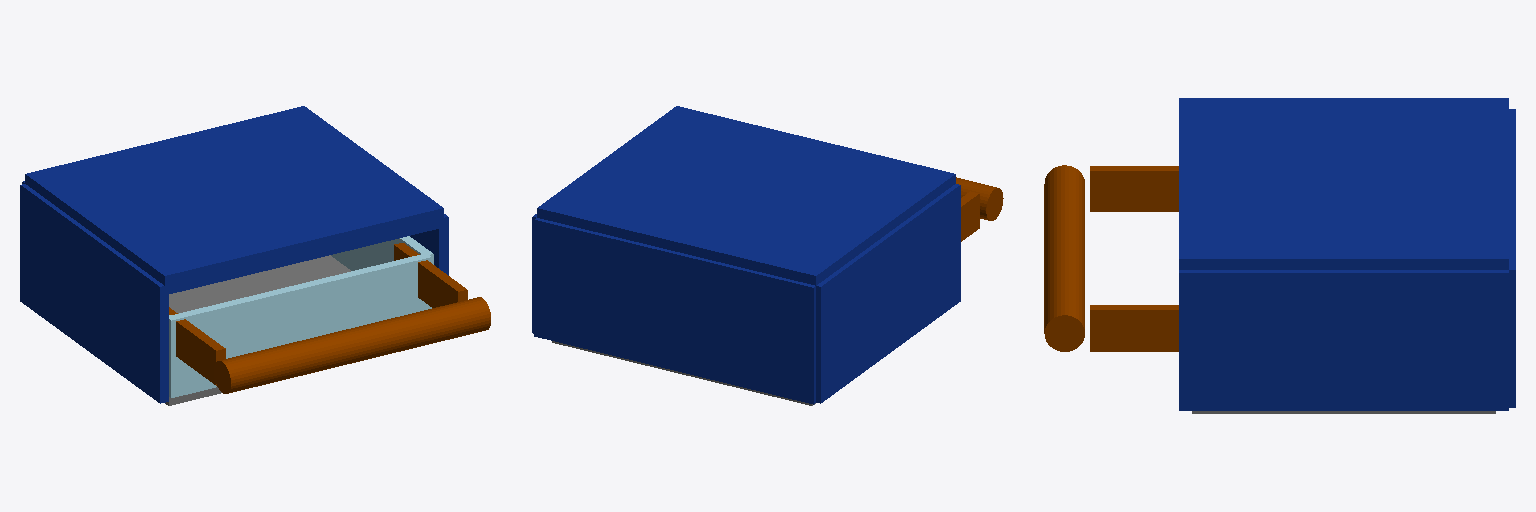
robot.urdf — bowl.urdf:
<?xml version="0.0" ?>
<robot name="bowl.urdf">
  <material name="mainColor">
    <color rgba=".1 .25 .6 1."/>
  </material>
  <material name="baseColor">
    <color rgba=".68 .85 .90 1."/>
  </material>
<!--   <material name="mainColor">
    <color rgba=".55 .27 .1 1."/>
  </material> -->
<!--   <material name="mainColor">
    <color rgba="1. 1. 1. 1."/>
  </material> -->
  <material name="orange">
    <color rgba=".93 .6 .23 1"/>
  </material>
  <material name="grey">
    <color rgba=".5 .5 .5 1."/>
  </material>
  <material name="brown">
    <color rgba=".59 .29 0.0 1."/>
  </material>

  <link name="base_link">
    <inertial>
      <origin rpy="0 0 0" xyz="0.0 0.0 0.0"/>
        <mass value="1"/>
        <inertia ixx="1" ixy="0" ixz="0" iyy="1" iyz="0" izz="1"/>
    </inertial>
  </link>

  <link name="base">
    <contact>
      <rolling_friction value="0.0"/>
      <lateral_friction value="0.0"/>
      <spinning_friction value="0.0"/>
    </contact>
    <inertial>
      <origin rpy="0 0 0" xyz="0.0 0.0 0.0"/>
       <mass value="0.1"/>
       <inertia ixx="1" ixy="0" ixz="0" iyy="1" iyz="0" izz="1"/>
    </inertial>
    <!-- bottom -->
    <visual>
      <origin rpy="0 0 0" xyz="0 0 -0.2"/>
      <geometry>
        <box size="1.4 1.2 .1"/>
      </geometry>
      <material name="grey"/>
    </visual>
    <visual>
      <!-- right -->
      <origin rpy="0 0 0" xyz="0 -.6 0"/>
      <geometry>
        <box size="1.4 .05 0.4"/>
      </geometry>
      <material name="baseColor"/>
    </visual>
    <visual>
      <!-- left -->
      <origin rpy="0 0 0" xyz="0 .6 0"/>
      <geometry>
        <box size="1.4 .05 0.4"/>
      </geometry>
      <material name="baseColor"/>
    </visual>
    <visual>
      <!-- front -->
      <origin rpy="0 0 0" xyz=".7 0 0"/>
      <geometry>
        <box size=".05 1.2 0.4"/>
      </geometry>
      <material name="baseColor"/>
    </visual>
    <visual>
      <!-- back -->
      <origin rpy="0 0 0" xyz="-.7 0 0"/>
      <geometry>
        <box size=".05 1.2 0.4"/>
      </geometry>
      <material name="baseColor"/>
    </visual>

    <collision>
      <!--Bottom --> 
      <origin rpy="0 0 0" xyz="0 0 -2"/>
      <geometry>
        <box size="1.4 1.2 .1"/>
      </geometry>
    </collision>
    <collision>
      <!-- right -->
      <origin rpy="0 0 0" xyz="0 -.6 0"/>
      <geometry>
        <box size="1.4 .05 0.4"/>
      </geometry>
    </collision>
    <collision>
      <!-- left -->
      <origin rpy="0 0 0" xyz="0 .6 0"/>
      <geometry>
        <box size="1.4 .05 0.4"/>
      </geometry>
    </collision>
    <collision>
      <!-- front -->
      <origin rpy="0 0 0" xyz=".7 0 0"/>
      <geometry>
        <box size=".05 1.2 0.4"/>
      </geometry>
    </collision>
    <collision>
      <!-- back -->
      <origin rpy="0 0 0" xyz="-.7 0 0"/>
      <geometry>
        <box size=".05 1.2 0.4"/>
      </geometry>
    </collision>
  </link>

  <link name="handle_r">
    <contact>
      <rolling_friction value="1000.0"/>
      <lateral_friction value="1000.0"/>
      <!-- lateral_friction was key to not making the gripper slide on the handle--> 
      <spinning_friction value="1000.0"/>
      <contact_cfm value="0.0"/>
      <contact_erp value="1.0"/>
    </contact>
    <inertial>
      <origin rpy="0 1.57 0" xyz="0 0 0"/>
      <mass value=".1"/>
      <inertia ixx="1" ixy="0" ixz="0" iyy="1" iyz="0" izz="1"/>
    </inertial>
    <visual>
      <origin rpy="0 1.57 0" xyz="0 0 0"/>
      <geometry>
        <cylinder radius="0.08" length="1.4"/>
      </geometry>
      <material name="brown"/>
    </visual>
    <collision>
      <origin rpy="0 1.57 0" xyz="0 0 0"/>
      <geometry>
        <cylinder radius="0.08" length="1.4"/>
      </geometry>
    </collision>
  </link>

  <link name="handle_plate_far">
    <contact>
      <rolling_friction value="1000.0"/>
      <lateral_friction value="1000.0"/>
      <spinning_friction value="1000.0"/>
      <contact_cfm value="0.0"/>
      <contact_erp value="1.0"/>
    </contact>
    <inertial>
      <origin rpy="0 1.57 0" xyz="0 0 0"/>
      <mass value=".1"/>
      <inertia ixx="1" ixy="0" ixz="0" iyy="1" iyz="0" izz="1"/>
    </inertial>
    <visual>
      <origin rpy="0 0 0" xyz="0 0 0"/>
      <geometry>
        <box size=".05 .6 .18"/>
      </geometry>
      <material name="brown"/>
    </visual>
    <collision>
      <origin rpy="0 0 0" xyz="0 0 0"/>
      <geometry>
        <box size=".05 .6 .18"/>
      </geometry>
    </collision>
  </link>

  <link name="handle_plate_near">
    <contact>
      <rolling_friction value="1000.0"/>
      <lateral_friction value="1000.0"/>
      <spinning_friction value="1000.0"/>
      <contact_cfm value="0.0"/>
      <contact_erp value="1.0"/>
    </contact>
    <inertial>
      <origin rpy="0 1.57 0" xyz="0 0 0"/>
      <mass value=".1"/>
      <inertia ixx="1" ixy="0" ixz="0" iyy="1" iyz="0" izz="1"/>
    </inertial>
    <visual>
      <origin rpy="0 0 0" xyz="0 0 0"/>
      <geometry>
        <box size=".05 .6 .18"/>
      </geometry>
      <material name="brown"/>
    </visual>
    <collision>
      <origin rpy="0 0 0" xyz="0 0 0"/>
      <geometry>
        <box size=".05 .6 .18"/>
      </geometry>
    </collision>
  </link>

  <link name="frame">
    <contact>
      <rolling_friction value="0.001"/>
      <lateral_friction value="0.005"/>
      <spinning_friction value="0.001"/>
      <contact_cfm value="0.0"/>
      <contact_erp value="1.0"/>
    </contact>
    <inertial>
      <origin rpy="0 0 0" xyz="0.0 0.0 0.0"/>
       <mass value="1000"/>
       <inertia ixx="1" ixy="0" ixz="0" iyy="1" iyz="0" izz="1"/>
    </inertial>
    <visual>
      <!--Top-->
      <origin rpy="0 0 0" xyz="0 0 .3"/>
      <geometry>
        <box size="1.5 1.3 .1"/>
      </geometry>
      <material name="mainColor"/>
    </visual>
    <visual>
      <!--Right-->
      <origin rpy="0 0 0" xyz="0 .65 0"/>
      <geometry>
        <box size="1.5 .05 .6"/>
      </geometry>
      <material name="mainColor"/>
    </visual>
    <visual>
      <!--Front-->
      <origin rpy="0 0 0" xyz=".75 0 0"/>
      <geometry>
        <box size=".05 1.3 .6"/>
      </geometry>
      <material name="mainColor"/>
    </visual>
    <visual>
      <!--Back-->
      <origin rpy="0 0 0" xyz="-.75 0 0"/>
      <geometry>
        <box size=".05 1.3 .6"/>
      </geometry>
      <material name="mainColor"/>
    </visual>

    <collision>
      <!--Top-->
      <origin rpy="0 0 0" xyz="0 0 .3"/>
      <geometry>
        <box size="1.5 1.3 .1"/>
      </geometry>
    </collision>
    <collision>
      <!--Right-->
      <origin rpy="0 0 0" xyz="0 .65 0"/>
      <geometry>
        <box size="1.5 .05 .6"/>
      </geometry>
    </collision>
    <collision>
      <!--Front-->
      <origin rpy="0 0 0" xyz=".75 0 0"/>
      <geometry>
        <box size=".05 1.3 .6"/>
      </geometry>
    </collision>
    <collision>
      <!--Back-->
      <origin rpy="0 0 0" xyz="-.75 0 0"/>
      <geometry>
        <box size=".05 1.3 .6"/>
      </geometry>
    </collision>
  </link>

  <joint name="frame_joint" type="fixed">
    <parent link="base_link"/>
    <child link="frame"/>
  </joint>

  <joint name="base_frame_joint" type="prismatic">
    <origin rpy="0 0 0" xyz="0 0 -.1"/>
    <parent link="frame"/>
    <child link="base"/>
    <axis rpy="0 0 0" xyz="0 1 0"/>
    <limit effort="100" lower="-1.25" upper="0" velocity="100"/>
    <dynamics damping="0.0" friction=".01"/>
  </joint>

  <joint name="handle_plate_far_joint" type="fixed">
    <origin rpy="0 0 0" xyz="-0.65 -0.7 0.1"/>
    <parent link="base"/>
    <child link="handle_plate_far"/>
  </joint>

  <joint name="handle_plate_near_joint" type="fixed">
    <origin rpy="0 0 0" xyz="0.65 -0.7 0.1"/>
    <parent link="base"/>
    <child link="handle_plate_near"/>
  </joint>

  <joint name="handle_r_joint" type="fixed">
    <origin rpy="0 0 0" xyz="0 -1.1 0.1"/>
    <parent link="base"/>
    <child link="handle_r"/>
  </joint>

</robot>

--- Facts derived from the render (not from the file) ---
The picture shows the robot from 3 angles, left to right: view 1: azimuth 30°, elevation 25°; view 2: azimuth 150°, elevation 25°; view 3: azimuth 270°, elevation 25°; orthographic projection.
Model bowl.urdf with 6 links and 5 joints (1 prismatic, 4 fixed), rooted at base_link, posed every joint at zero.
Visible links, largest first — view 1: frame, base, handle_r, handle_plate_far, handle_plate_near; view 2: frame, handle_r, handle_plate_far; view 3: frame, handle_r, handle_plate_near, handle_plate_far, base.
Link boxes in pixels (x1,y1,x2,y2): frame: (20,106,448,403); base: (165,236,433,405); handle_r: (214,297,490,393); handle_plate_far: (169,307,225,385); handle_plate_near: (394,243,467,307); frame: (532,106,960,404); handle_r: (956,177,1003,220); handle_plate_far: (961,191,979,241); frame: (1179,98,1515,410); handle_r: (1044,165,1084,351); handle_plate_near: (1090,305,1178,351); handle_plate_far: (1090,166,1178,211); base: (1192,411,1495,413).
Bounding box of the posed robot: 1.55 × 1.85 × 0.7 m (x, y, z).
Geometry: primitives only (box / cylinder / sphere), no mesh files.